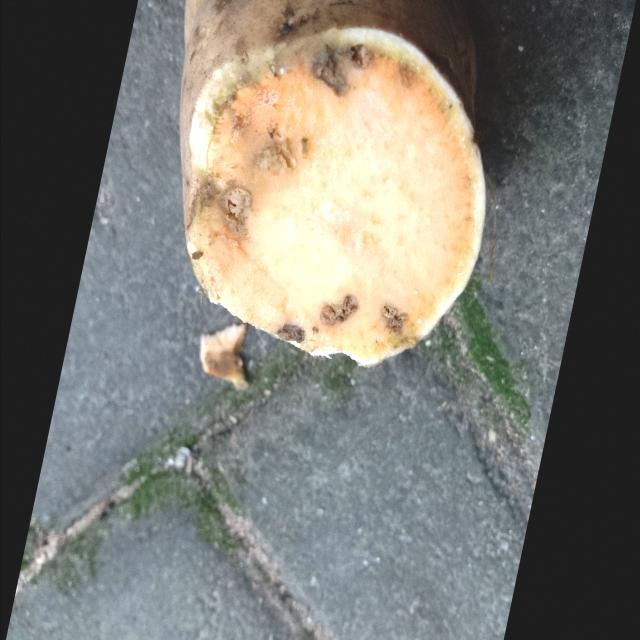Sick Sweet Potato_Tuber Rot: (190, 45, 471, 365)
